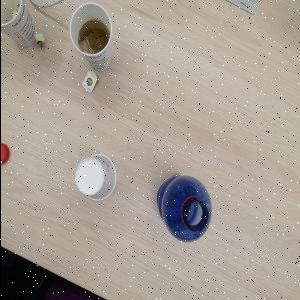Cup: (69, 3, 113, 74), (75, 154, 117, 203), (2, 1, 38, 51)
Plastic-bottle: (155, 174, 213, 244)
